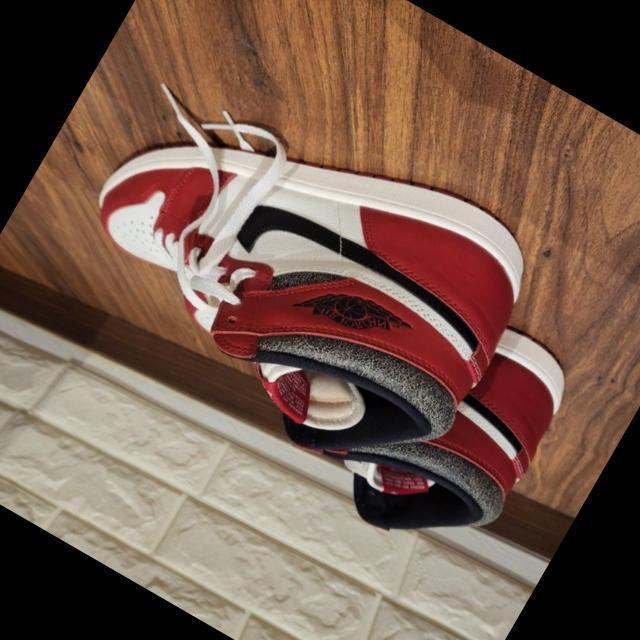nike original jordan 1: (30, 31, 563, 516)
